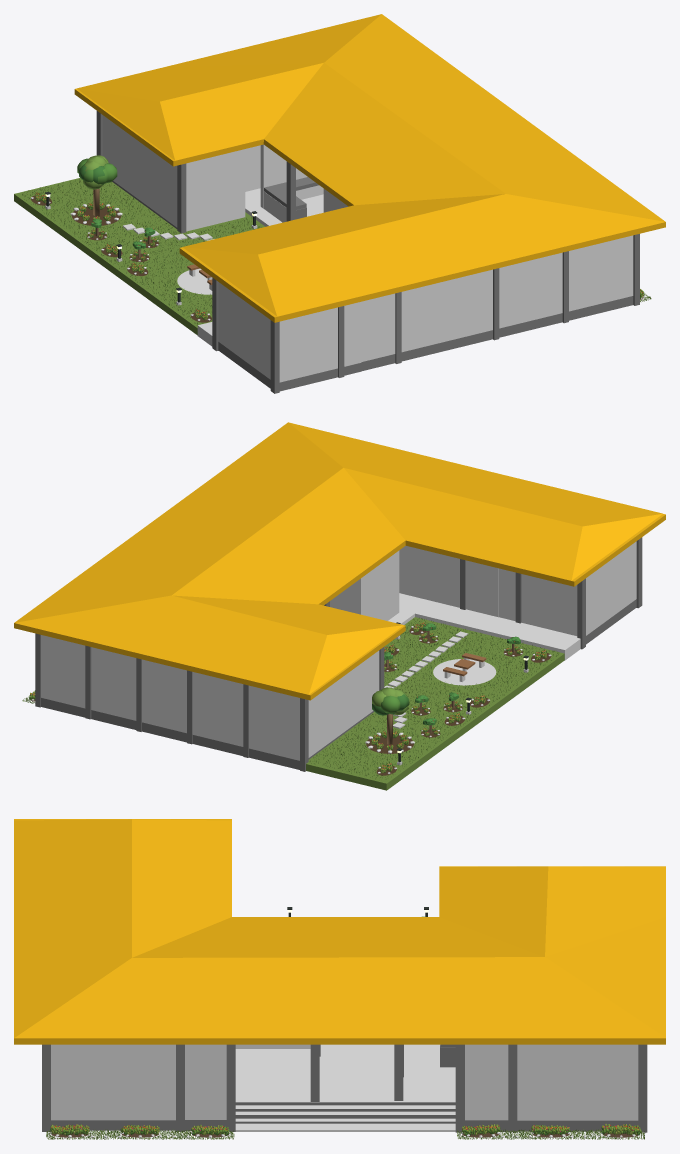
The model's file is CCIT_LHSNav.glb.
3 renders of one model, top to bottom at view 1: azimuth 30°, elevation 25°; view 2: azimuth 150°, elevation 25°; view 3: azimuth 270°, elevation 25°, orthographic. The views are drawn at different scales.
Parts seen in each view (by area): view 1: Cube.030, Cube, Cube.061, Cube.031, Cube.011, Cube.002, Rear Bermuda grass blades, Cube.056, Rear garden mulch beds and seating paving, Cube.010, Cube.057, Rear leafy shade tree (+5 smaller); view 2: Cube.030, Cube.002, Cube.061, Cube.031, Cube, Rear Bermuda grass blades, Cube.001, Cube.009, Cube.060, Rear garden mulch beds and seating paving, Flowering bonsai beds and stepping stones, Rear leafy shade tree (+5 smaller); view 3: Cube.030, Cube.003, Cube, Cube.002, Cube.006, Cube.004, Cube.016, Fine grass on entrance strips, Cube.056, Cube.060, Cube.013, Cube.053 (+14 smaller).
Part boxes in pixels (left/top/right/bottom): Cube.030: left=74, top=14, right=665, bottom=322; Cube: left=361, top=235, right=633, bottom=361; Cube.061: left=14, top=178, right=265, bottom=335; Cube.031: left=218, top=282, right=361, bottom=382; Cube.011: left=186, top=149, right=245, bottom=231; Cube.002: left=103, top=115, right=260, bottom=214; Rear Bermuda grass blades: left=22, top=179, right=261, bottom=325; Cube.056: left=361, top=296, right=633, bottom=370; Rear garden mulch beds and seating paving: left=31, top=195, right=212, bottom=322; Cube.010: left=260, top=144, right=323, bottom=208; Cube.057: left=218, top=342, right=361, bottom=391; Rear leafy shade tree: left=77, top=155, right=117, bottom=216; Cube.030: left=14, top=422, right=665, bottom=700; Cube.002: left=41, top=635, right=361, bottom=760; Cube.061: left=306, top=617, right=564, bottom=790; Cube.031: left=499, top=541, right=636, bottom=635; Cube: left=399, top=546, right=498, bottom=617; Rear Bermuda grass blades: left=309, top=617, right=558, bottom=780; Cube.001: left=412, top=600, right=580, bottom=660; Cube.009: left=330, top=550, right=399, bottom=620; Cube.060: left=41, top=698, right=361, bottom=769; Rear garden mulch beds and seating paving: left=366, top=625, right=551, bottom=775; Flowering bonsai beds and stepping stones: left=384, top=631, right=522, bottom=737; Rear leafy shade tree: left=372, top=687, right=409, bottom=744; Cube.030: left=14, top=819, right=665, bottom=1044; Cube.003: left=235, top=1044, right=455, bottom=1102; Cube: left=51, top=1044, right=175, bottom=1120; Cube.002: left=517, top=1044, right=638, bottom=1120; Cube.006: left=465, top=1044, right=508, bottom=1120; Cube.004: left=185, top=1044, right=226, bottom=1119; Cube.016: left=235, top=1123, right=455, bottom=1131; Fine grass on entrance strips: left=46, top=1129, right=645, bottom=1139; Cube.056: left=51, top=1120, right=175, bottom=1130; Cube.060: left=517, top=1120, right=638, bottom=1131; Cube.013: left=235, top=1105, right=455, bottom=1108; Cube.053: left=235, top=1115, right=455, bottom=1118.
Size of the model in its own units: 22.8 by 5.92 by 28.6.
